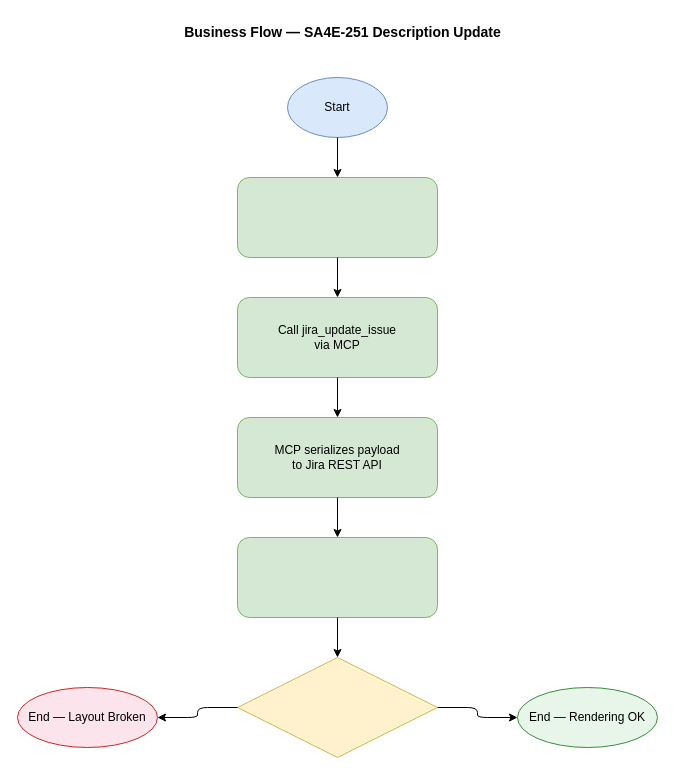
The diagram is 675 pixels wide and 775 high, and some of its shapes have lost their labels. The centre of each missing label's shape, as x and y in pixels:
"Jira stores description" goes at [337,577].
"Jira UI renders markdown correctly?" goes at [337,707].
"Prepare markdown description (headings, lists, links)" goes at [337,217].
